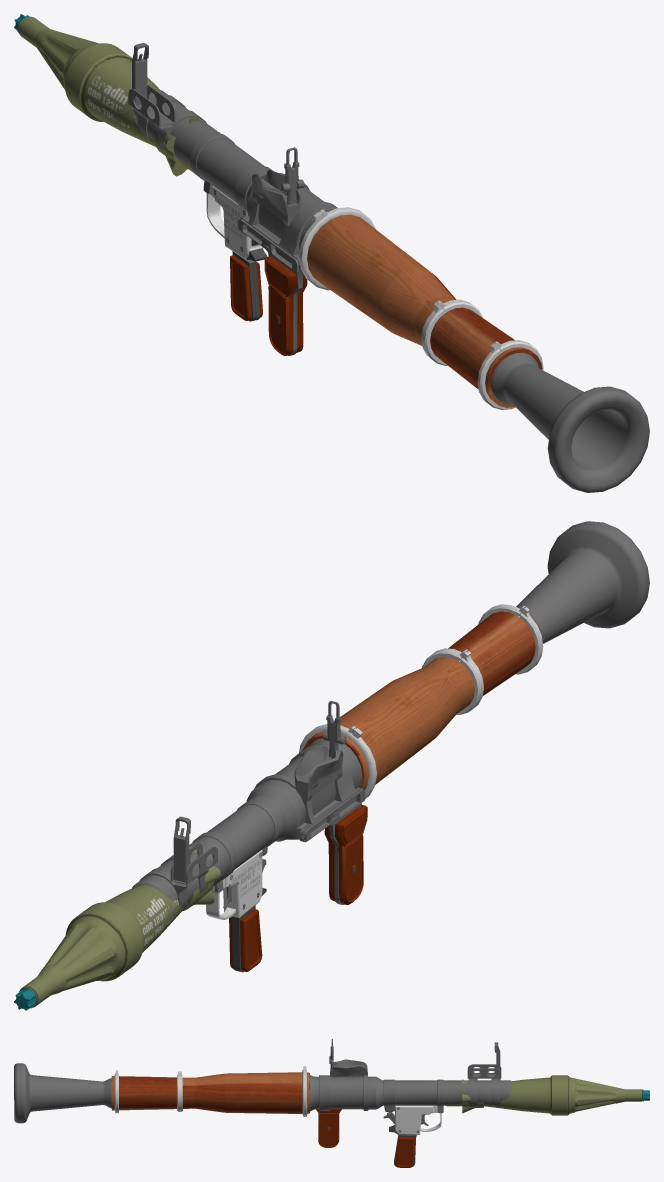
Rendered from weapon_rpg7.glb.
3 renders of one model, top to bottom at view 1: azimuth 30°, elevation 25°; view 2: azimuth 150°, elevation 25°; view 3: azimuth 270°, elevation 25°, orthographic. The views are drawn at different scales.
Parts seen in each view (by area): view 1: Receiver, Warhead; view 2: Receiver, Warhead; view 3: Receiver, Warhead.
Boxes of the visible parts, x1,y1,x2,y2 form: Receiver: (128, 43, 649, 492); Warhead: (14, 14, 219, 176); Receiver: (132, 521, 649, 972); Warhead: (14, 846, 222, 1010); Receiver: (14, 1039, 511, 1167); Warhead: (446, 1075, 649, 1115).
Size of the model in its own units: 0.1123 by 0.2475 by 1.18.
6 materials, 6 textured.
